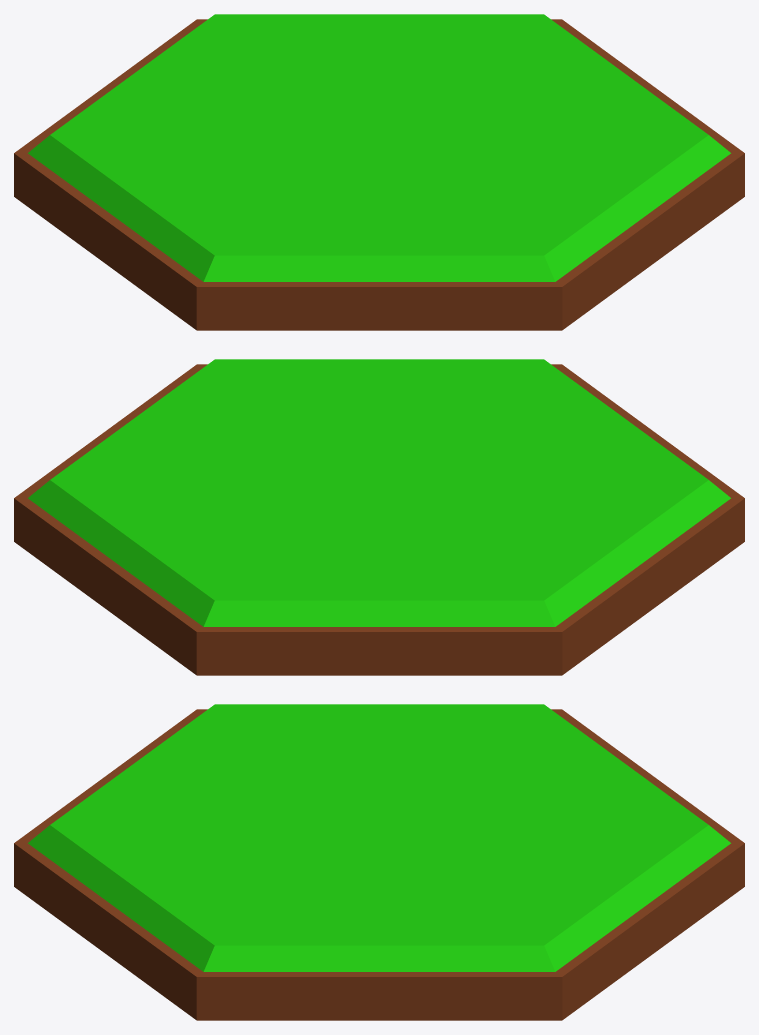
3 views of the same model, one above another, from view 1: azimuth 30°, elevation 25°; view 2: azimuth 150°, elevation 25°; view 3: azimuth 270°, elevation 25° (orthographic).
Parts seen in each view (by area): view 1: SS; view 2: SS; view 3: SS.
Boxes of the visible parts, x1,y1,x2,y2 form: SS: [14, 14, 744, 330]; SS: [14, 359, 744, 675]; SS: [14, 704, 744, 1020].
Bounding box in the file's own units: 173 × 18.65 × 200.
